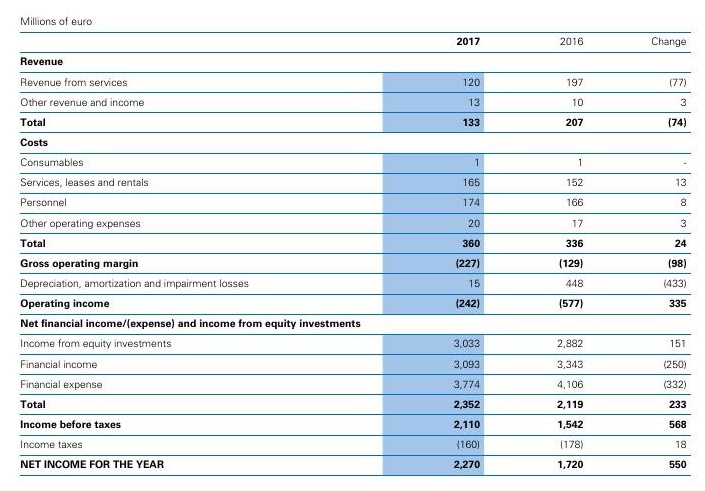table: (0, 0, 705, 491)
